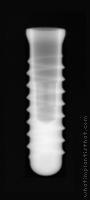Leone: (24, 27, 66, 178)
